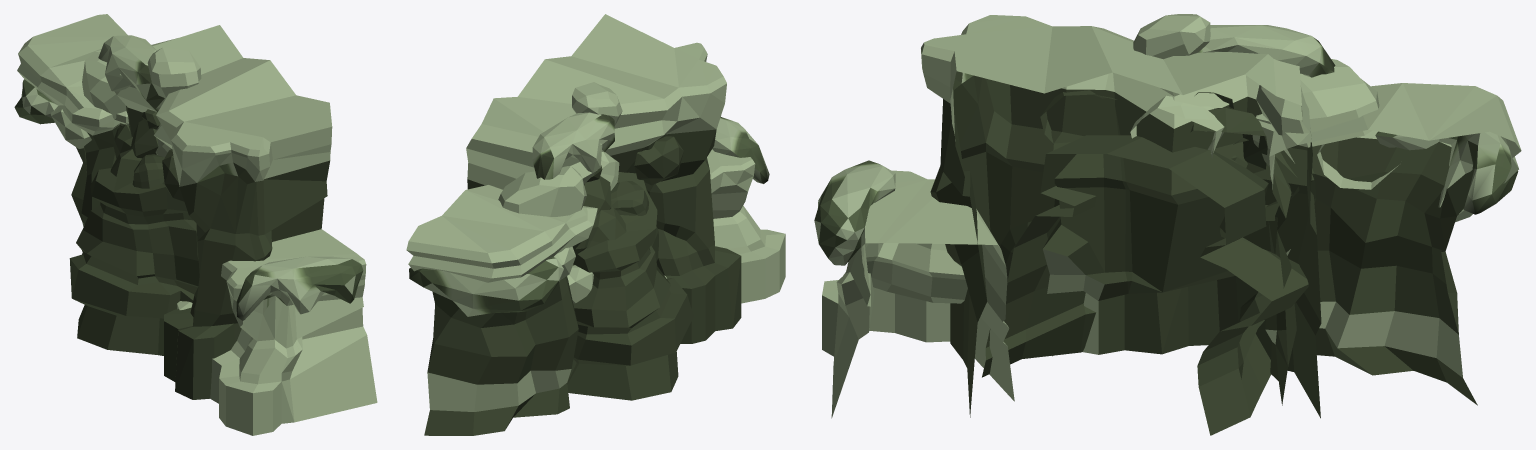
File: EA_Swamp_Wall_03a.glb
3 renders of one model, left to right at view 1: azimuth 30°, elevation 25°; view 2: azimuth 150°, elevation 25°; view 3: azimuth 270°, elevation 25°, orthographic. The views are drawn at different scales.
Visible parts, largest first — view 1: EA_Swamp_Wall_03a; view 2: EA_Swamp_Wall_03a; view 3: EA_Swamp_Wall_03a.
Part boxes in pixels (x1,y1,x2,y2): EA_Swamp_Wall_03a: (14,14,377,435); EA_Swamp_Wall_03a: (406,14,785,435); EA_Swamp_Wall_03a: (814,14,1521,435).
Bounding box in the file's own units: 10.72 × 14.69 × 26.29.
1 material, 1 textured.
